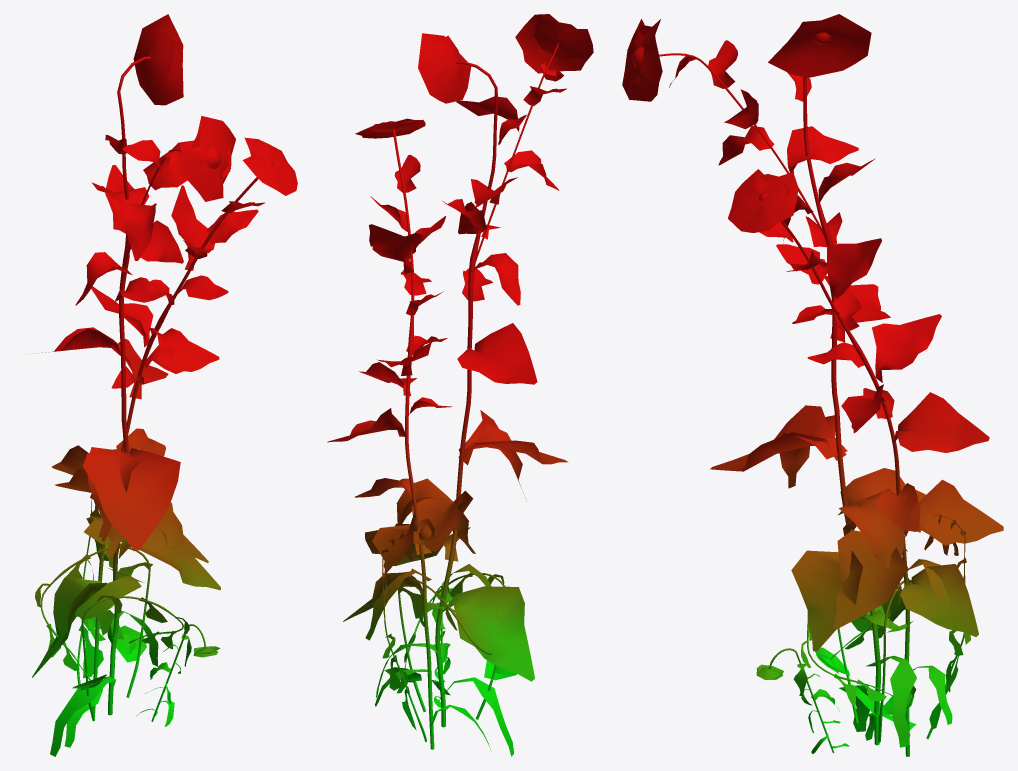
File: Crownbeard_LOD0_Var4_tefoajkr.fbx
3 views of the same model, side by side, from view 1: azimuth 30°, elevation 25°; view 2: azimuth 150°, elevation 25°; view 3: azimuth 270°, elevation 25° (orthographic). The views are drawn at different scales.
Parts seen in each view (by area): view 1: _d132_Var4_LOD0; view 2: _d132_Var4_LOD0; view 3: _d132_Var4_LOD0.
Part boxes in pixels (x1,y1,x2,y2): _d132_Var4_LOD0: [28, 14, 297, 756]; _d132_Var4_LOD0: [327, 14, 593, 756]; _d132_Var4_LOD0: [622, 14, 1003, 756].
Size of the model in its own units: 23.64 by 70.57 by 31.59.
